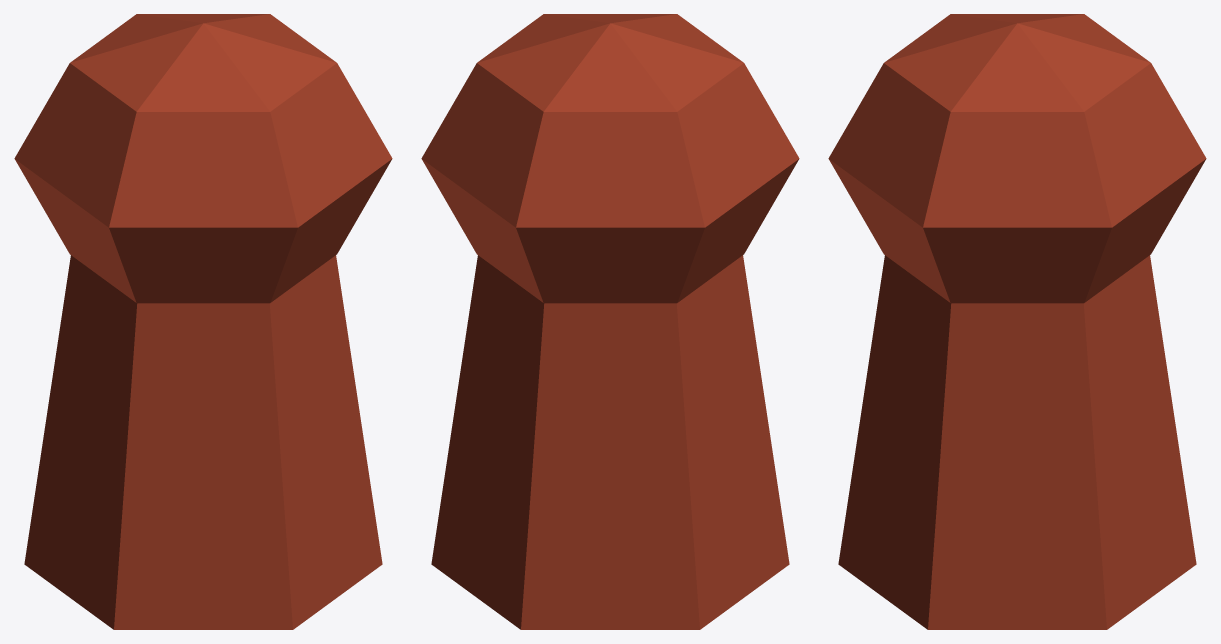
Rendered from pin.glb.
The picture shows the model from 3 angles, left to right: view 1: azimuth 30°, elevation 25°; view 2: azimuth 150°, elevation 25°; view 3: azimuth 270°, elevation 25°; orthographic projection.
Parts seen in each view (by area): view 1: Pin; view 2: Pin; view 3: Pin.
Part boxes in pixels (x1=…): Pin: x1=14, y1=14, x2=392, y2=629; Pin: x1=421, y1=14, x2=799, y2=629; Pin: x1=828, y1=14, x2=1206, y2=629.
Bounding box in the file's own units: 1.65 × 3 × 1.9.
